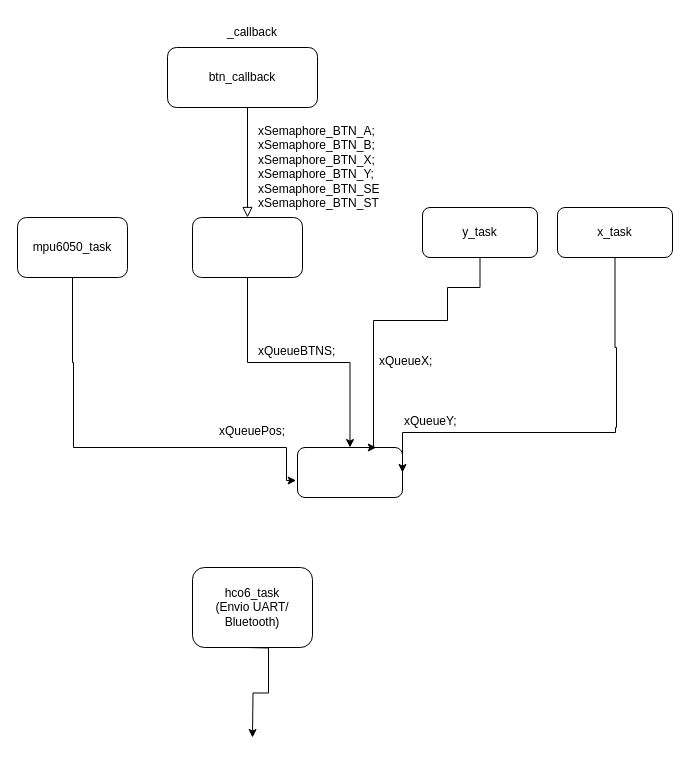
Some shapes in this 690 by 763 pixel diagram are drawn without their labels. The box of each missing label's shape, as (x1, y1, x2, y2) in pixels:
btn_task: (192, 216, 302, 278)
hc06_task: (296, 446, 402, 498)
